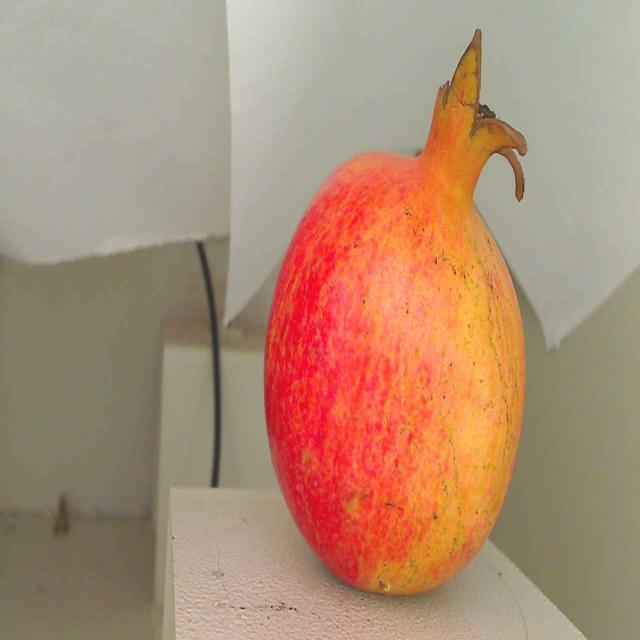pomegranate: (250, 24, 558, 607)
